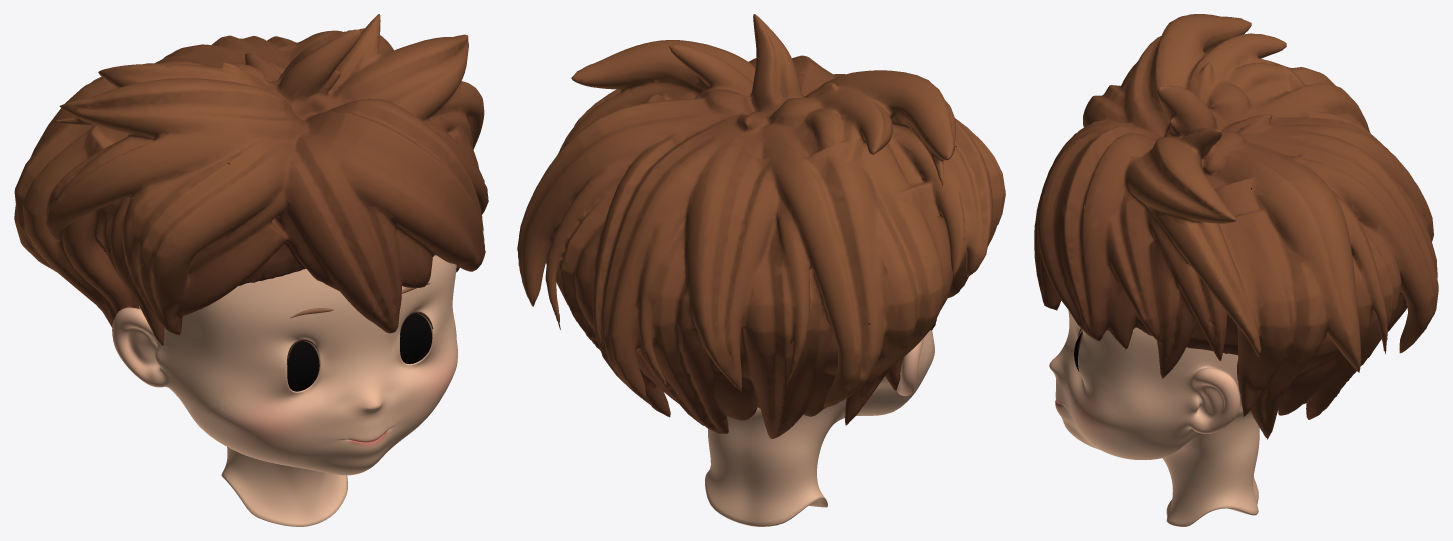
The model's file is head_candidate_v004.glb.
The picture shows the model from 3 angles, left to right: view 1: azimuth 30°, elevation 25°; view 2: azimuth 150°, elevation 25°; view 3: azimuth 270°, elevation 25°; orthographic projection. The views are drawn at different scales.
Parts seen in each view (by area): view 1: SCULPT_HAIR, SCULPT_HEAD, SCULPT_EYE_R, SCULPT_EYE_L; view 2: SCULPT_HAIR, SCULPT_HEAD; view 3: SCULPT_HAIR, SCULPT_HEAD.
Boxes of the visible parts, bbox=[...] form: SCULPT_HAIR: bbox=[14, 14, 488, 345]; SCULPT_HEAD: bbox=[112, 255, 457, 526]; SCULPT_EYE_R: bbox=[287, 341, 319, 391]; SCULPT_EYE_L: bbox=[400, 313, 432, 364]; SCULPT_HAIR: bbox=[517, 14, 1005, 438]; SCULPT_HEAD: bbox=[705, 330, 934, 526]; SCULPT_HAIR: bbox=[1034, 14, 1438, 439]; SCULPT_HEAD: bbox=[1049, 310, 1259, 526].
Size of the model in its own units: 0.4865 by 0.5138 by 0.4188.
Materials: 5 (3 with a texture image).
